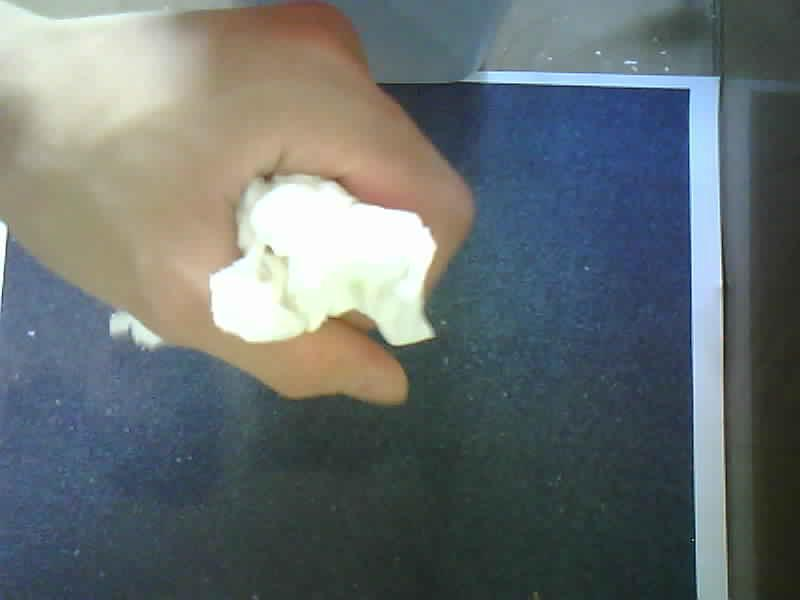paper: (101, 147, 451, 362)
